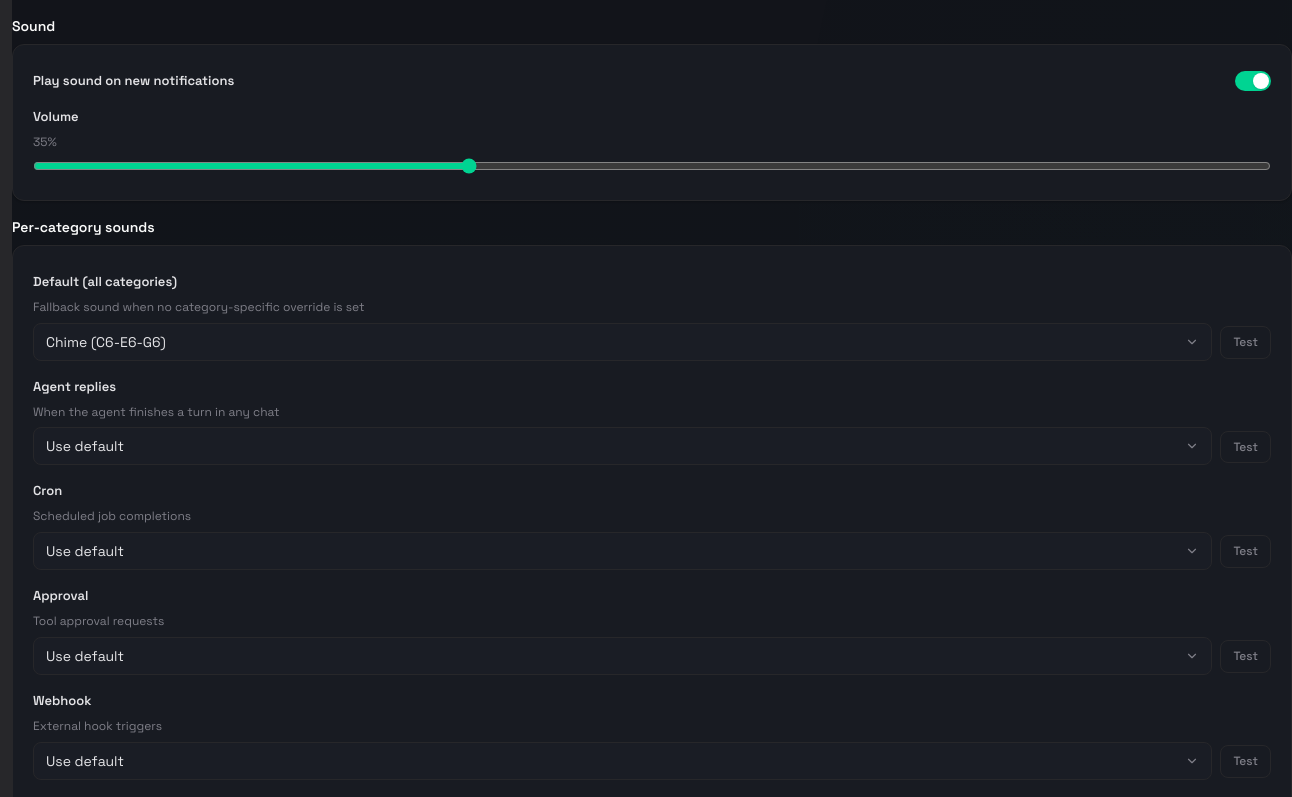
NotificationsPanel › Test buttons are disabled when master toggle is off
This screenshot has width=1292, height=797.
Click the switch named "Play sound on new notifications".
click(1253, 81)  # box [1235,71,1271,91]
(page scrolled)
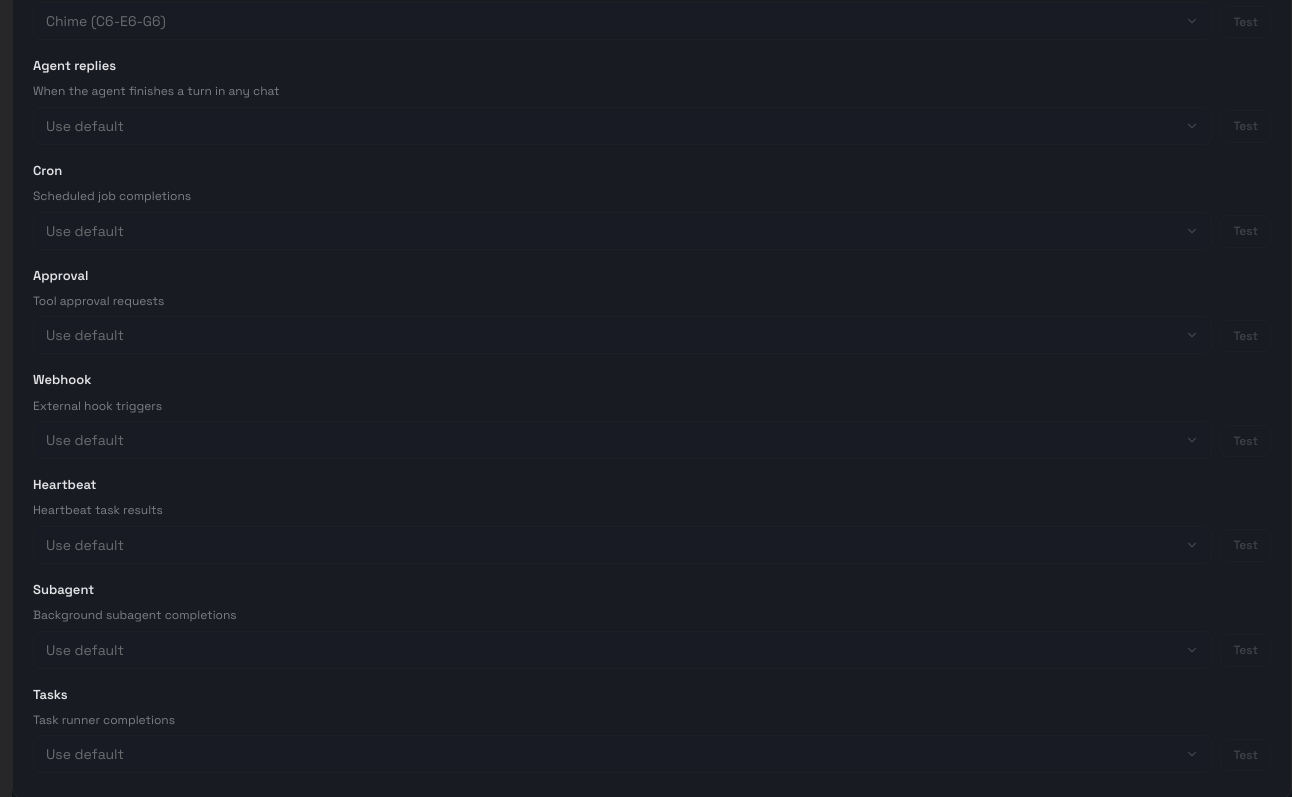
Check: the 1st button "Test" is disabled, box [1220,6,1271,38]
Check: the 2nd button "Test" is disabled, box [1220,110,1271,143]
Check: the 3rd button "Test" is disabled, box [1220,215,1271,248]
